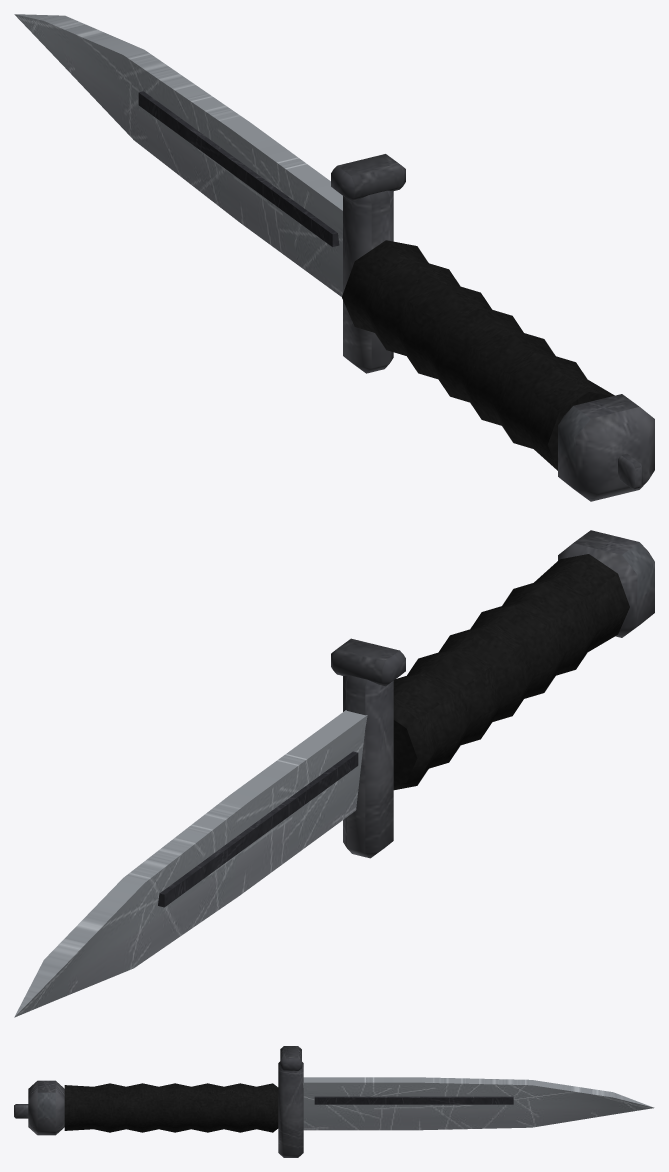
Rendered from knife.glb.
3 views of the same model, one above another, from view 1: azimuth 30°, elevation 25°; view 2: azimuth 150°, elevation 25°; view 3: azimuth 270°, elevation 25° (orthographic). The views are drawn at different scales.
Visible parts, largest first — view 1: body; view 2: body; view 3: body.
Part boxes in pixels (bbox=[...]): body: bbox=[14, 14, 654, 501]; body: bbox=[14, 530, 654, 1017]; body: bbox=[14, 1046, 654, 1157].
Size of the model in its own units: 0.029 by 0.063 by 0.354.
Materials: 4 (4 with a texture image).
